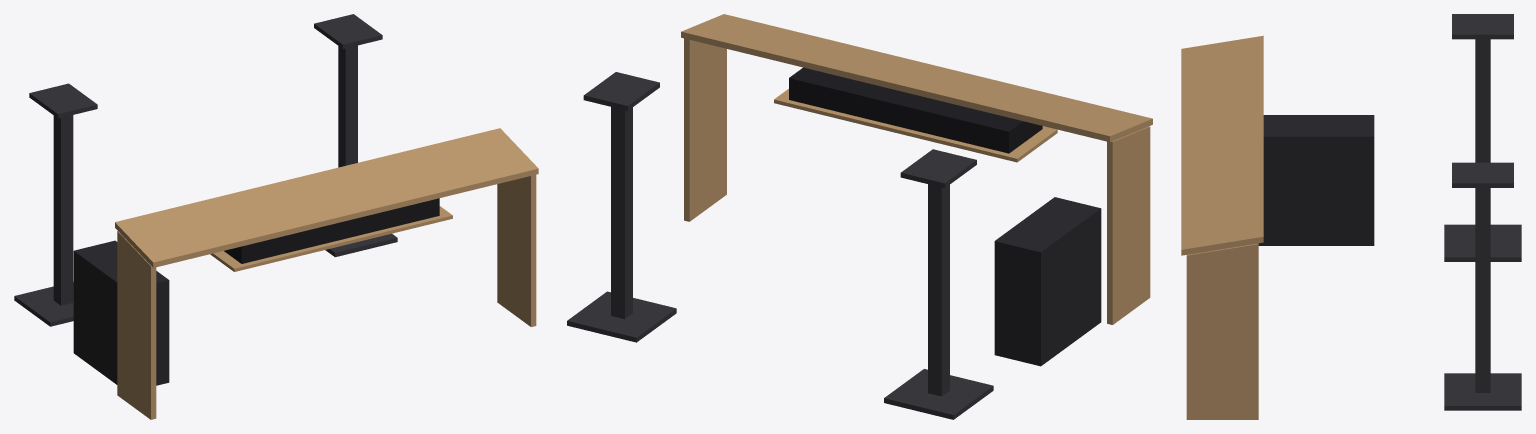
The model's file is Mesa_sin_lana.dae.
3 renders of one model, left to right at view 1: azimuth 30°, elevation 25°; view 2: azimuth 150°, elevation 25°; view 3: azimuth 270°, elevation 25°, orthographic. The views are drawn at different scales.
Parts seen in each view (by area): view 1: Tablero inclinado, Torre PC (ejemplo), Pie KH izquierdo, Lateral izquierdo, Lateral derecho, Pie KH derecho, Teclado MIDI 61 teclas (ejemplo), Bandeja teclado MIDI; view 2: Tablero inclinado, Torre PC (ejemplo), Pie KH derecho, Pie KH izquierdo, Teclado MIDI 61 teclas (ejemplo), Lateral izquierdo, Lateral derecho, Bandeja teclado MIDI; view 3: Tablero inclinado, Torre PC (ejemplo), Lateral derecho, Pie KH derecho, Pie KH izquierdo.
Boxes of the visible parts, <box> form: Tablero inclinado: <box>115,128,538,267</box>; Torre PC (ejemplo): <box>73,240,169,385</box>; Pie KH izquierdo: <box>14,83,97,326</box>; Lateral izquierdo: <box>117,231,156,419</box>; Lateral derecho: <box>497,174,536,326</box>; Pie KH derecho: <box>314,14,397,257</box>; Teclado MIDI 61 teclas (ejemplo): <box>224,198,439,263</box>; Bandeja teclado MIDI: <box>210,206,452,271</box>; Tablero inclinado: <box>681,14,1152,142</box>; Torre PC (ejemplo): <box>994,197,1101,366</box>; Pie KH derecho: <box>567,72,676,342</box>; Pie KH izquierdo: <box>884,149,993,419</box>; Teclado MIDI 61 teclas (ejemplo): <box>789,67,1042,153</box>; Lateral izquierdo: <box>1107,126,1150,324</box>; Lateral derecho: <box>684,38,726,221</box>; Bandeja teclado MIDI: <box>774,89,1057,162</box>; Tablero inclinado: <box>1181,35,1263,255</box>; Torre PC (ejemplo): <box>1258,115,1374,245</box>; Lateral derecho: <box>1186,243,1258,419</box>; Pie KH derecho: <box>1444,162,1521,410</box>; Pie KH izquierdo: <box>1444,14,1521,261</box>.
Bounding box in the file's own units: 72.83 × 52.09 × 37.4.
